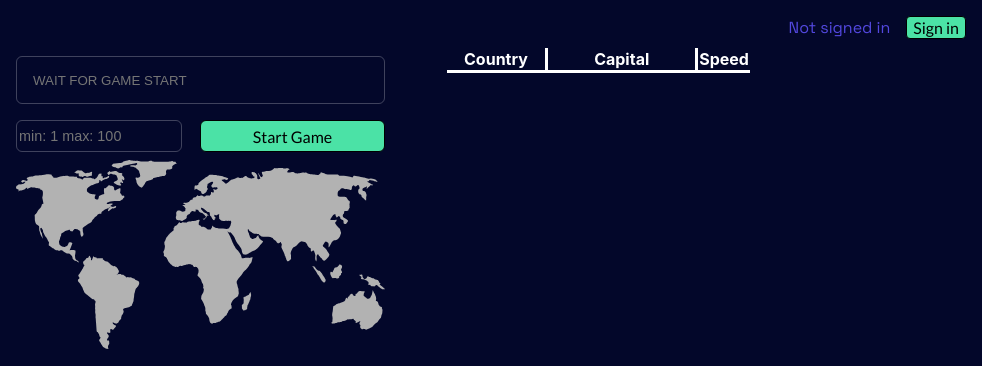
Show the game end notification after all the quests been answered
Click the button "Start Game" at point(292, 136), box [200, 120, 385, 152]
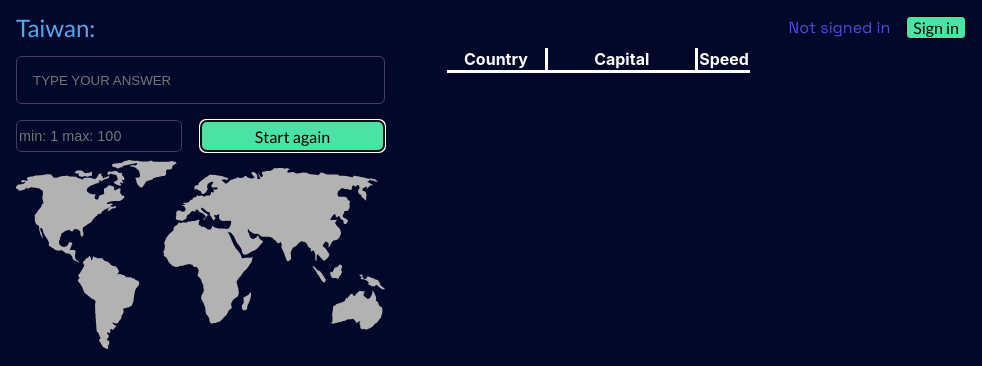
Type "Taipei" into the field with test id "answer-input" at point(200, 80), box [16, 56, 385, 104]
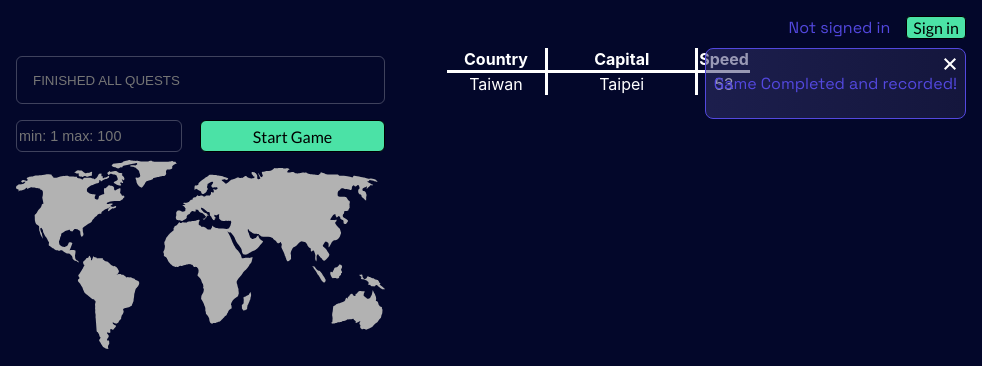
Result: the button "close" is shown at [935, 49, 965, 79]
Result: the text "Game Completed and recorded!" is shown at [714, 73, 957, 94]
